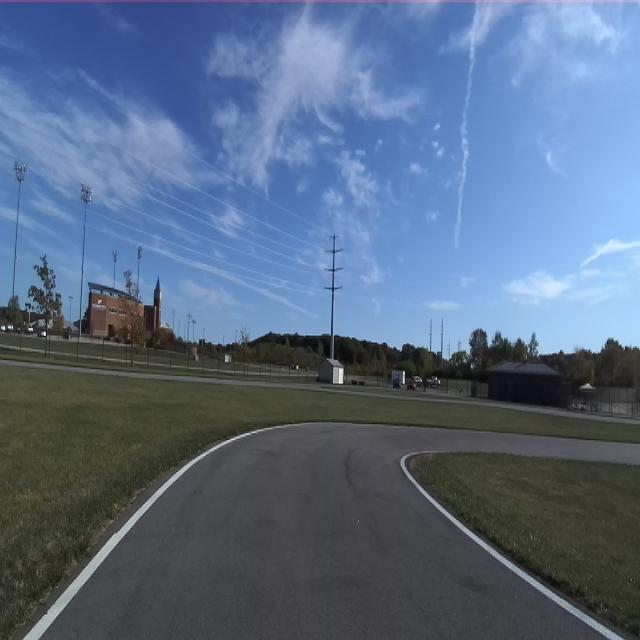white-line: (22, 422, 319, 639), (400, 450, 622, 639)
